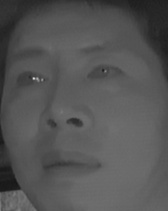eye: (86, 58, 124, 87), (13, 65, 51, 92)
mouth: (36, 144, 101, 185)
